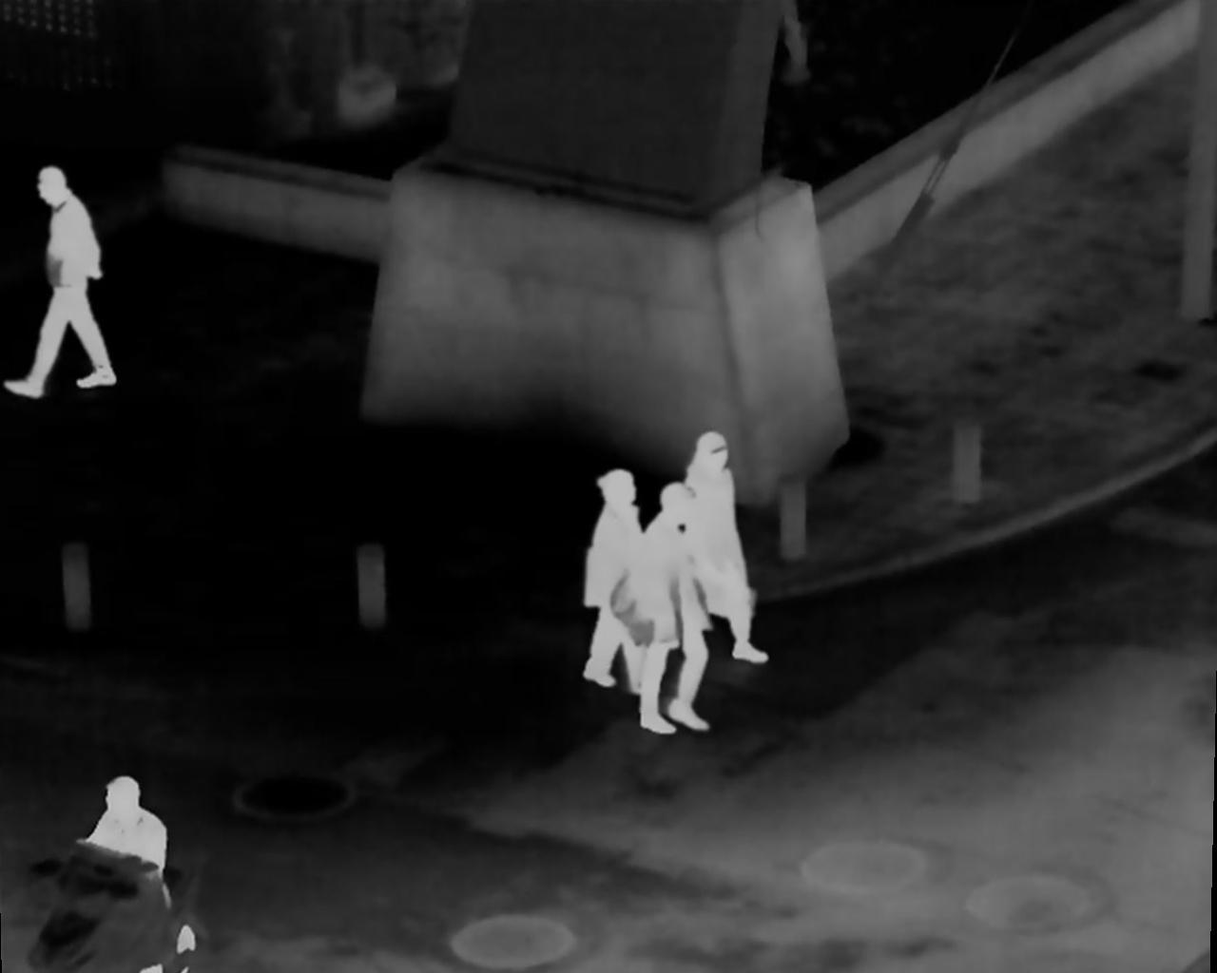person: (13, 166, 123, 400), (678, 429, 772, 672), (626, 487, 711, 731), (82, 769, 179, 956), (575, 471, 645, 696)
